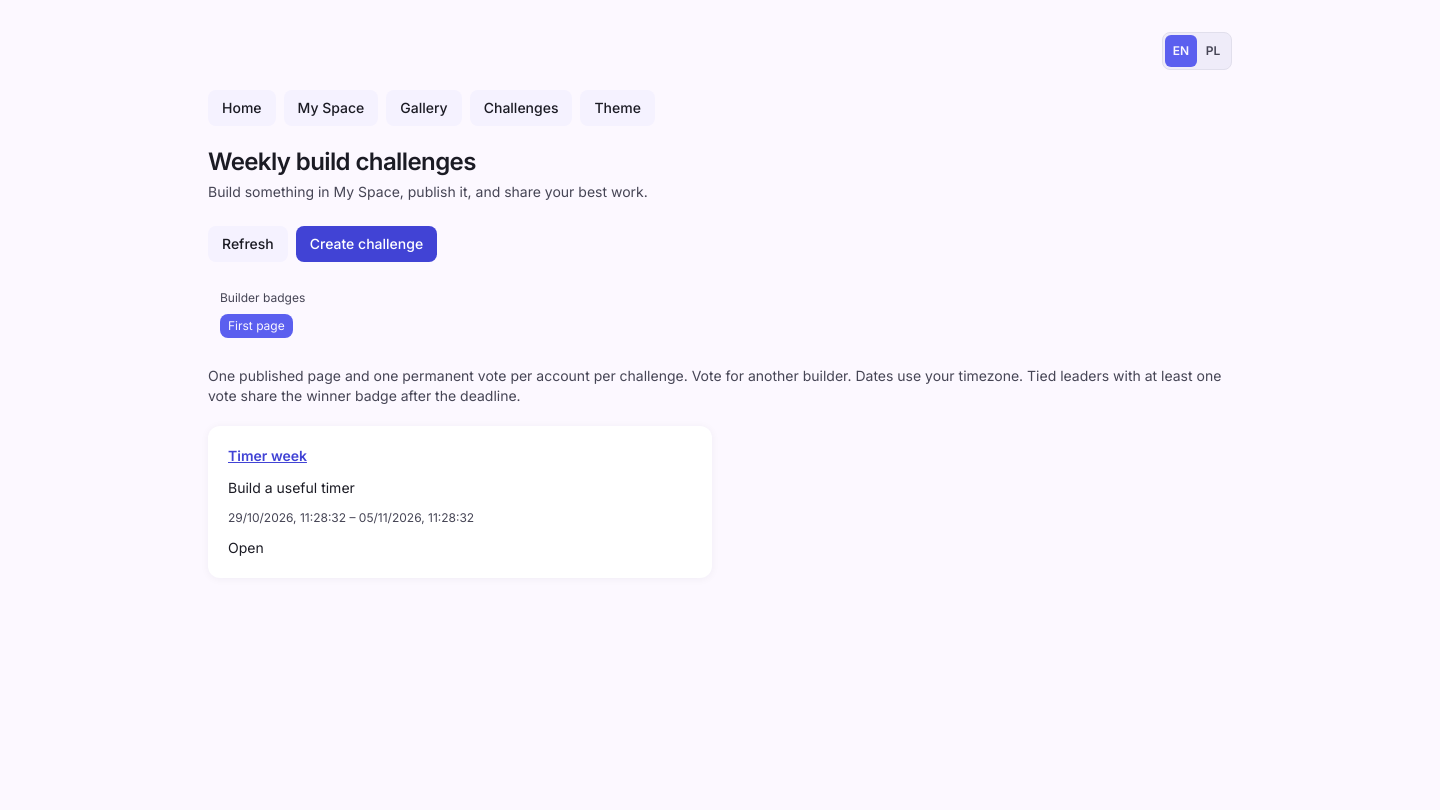
shows the admin create form only after server authorization and disables empty inputs
The image size is (1440, 810).
Step 1. Click the button "Create challenge" → (366, 244), box top-left (296, 226), bottom-right (437, 262)
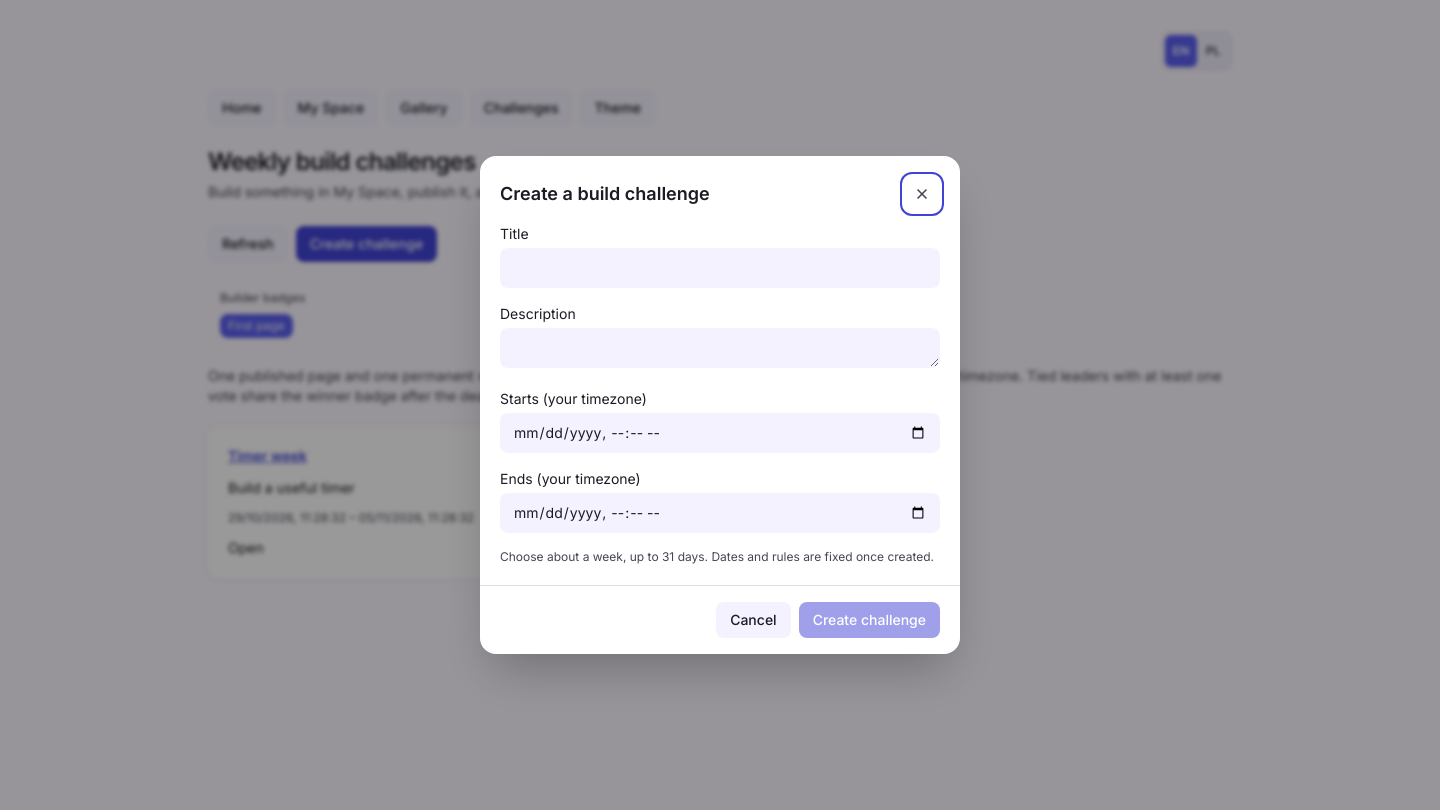
Expected: the dialog shows "Starts (your timezone)", top-left (500, 390), bottom-right (647, 407)
Expected: the button "Create challenge" is disabled, top-left (799, 602), bottom-right (940, 638)
